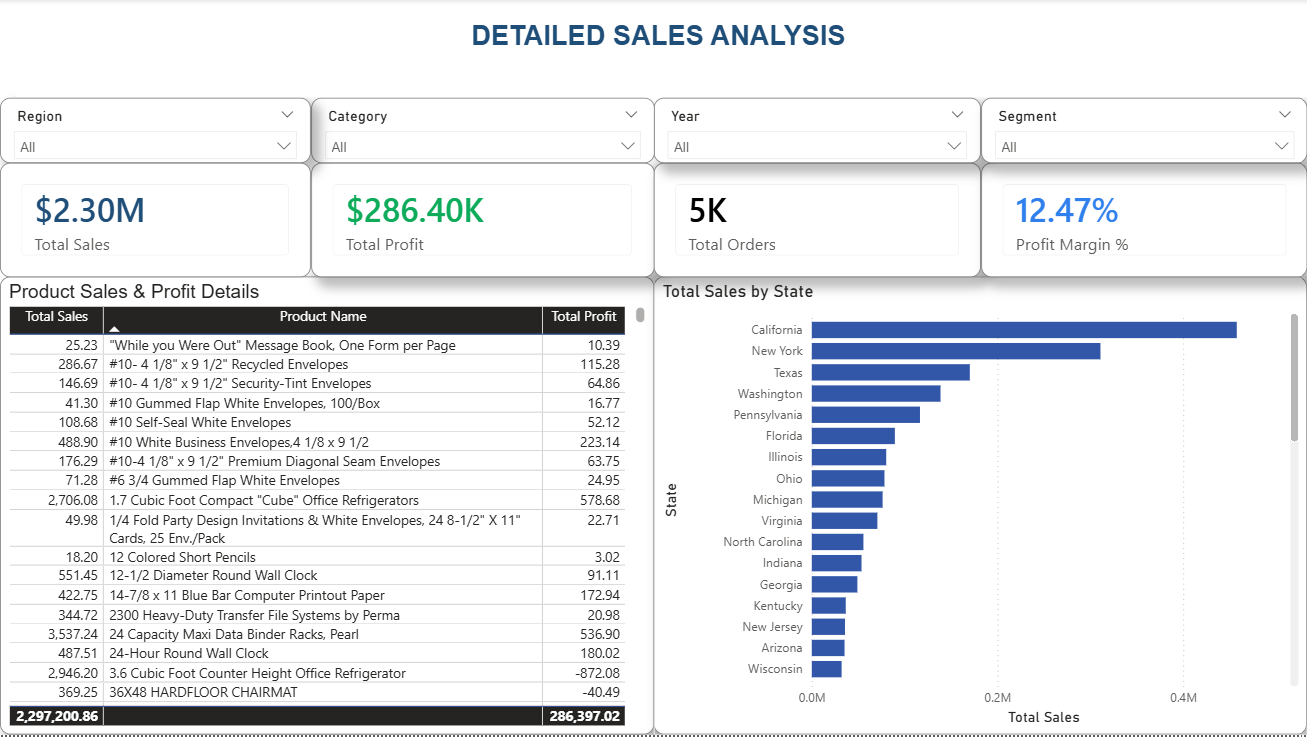

The dashboard page shown, as its layout file describes it:
{"tool":"powerbi","page":{"name":"Detailed Analysis","canvas":[1280,720],"ordinal":1},"visuals":[{"type":"tableEx","title":"Product Sales & Profit Details","fields":{"Values":["Sales_Data.Total Sales","Sales_Data.Product Name","Sales_Data.Total Profit"]},"box":[0,272,640,448],"z":0},{"type":"clusteredBarChart","fields":{"Category":["Sales_Data.State"],"Y":["Sales_Data.Total Sales"]},"box":[640,272,640,448],"z":1000},{"type":"cardVisual","title":"Total Profit","fields":{"Data":["Sales_Data.Total Profit"]},"box":[304,160,336,112],"z":2000},{"type":"cardVisual","title":"Total Orders","fields":{"Data":["Sales_Data.Total Orders"]},"box":[640,160,320,112],"z":3000},{"type":"cardVisual","title":"Profit Margin %","fields":{"Data":["Sales_Data.Profit Margin %"]},"box":[960,160,320,112],"z":4000},{"type":"slicer","fields":{"Values":["Date.Year"]},"box":[640,96,320,64],"z":5000},{"type":"slicer","fields":{"Values":["Sales_Data.Category"]},"box":[304,96,336,64],"z":6000},{"type":"slicer","fields":{"Values":["Sales_Data.Segment"]},"box":[960,96,320,64],"z":7000},{"type":"slicer","fields":{"Values":["Sales_Data.Region"]},"box":[0,96,304,64],"z":8000},{"type":"cardVisual","title":"Total Sales","fields":{"Data":["Sales_Data.Total Sales"]},"box":[0,160,304,112],"z":9000},{"type":"textbox","box":[16,16,1264,80],"z":10000}]}

Visuals, with their boxes in screenshot pixels (x1, y1, x2, y2), scaled from the page's 1280x720 canvas onto the 1307x742 screenshot:
"Product Sales & Profit Details" tableEx: region(0, 280, 654, 741)
clusteredBarChart - Sales_Data.State x Sales_Data.Total Sales: region(654, 280, 1306, 741)
"Total Profit" cardVisual: region(310, 165, 654, 280)
"Total Orders" cardVisual: region(654, 165, 980, 280)
"Profit Margin %" cardVisual: region(980, 165, 1306, 280)
slicer - Date.Year: region(654, 99, 980, 165)
slicer - Sales_Data.Category: region(310, 99, 654, 165)
slicer - Sales_Data.Segment: region(980, 99, 1306, 165)
slicer - Sales_Data.Region: region(0, 99, 310, 165)
"Total Sales" cardVisual: region(0, 165, 310, 280)
textbox: region(16, 16, 1306, 99)
